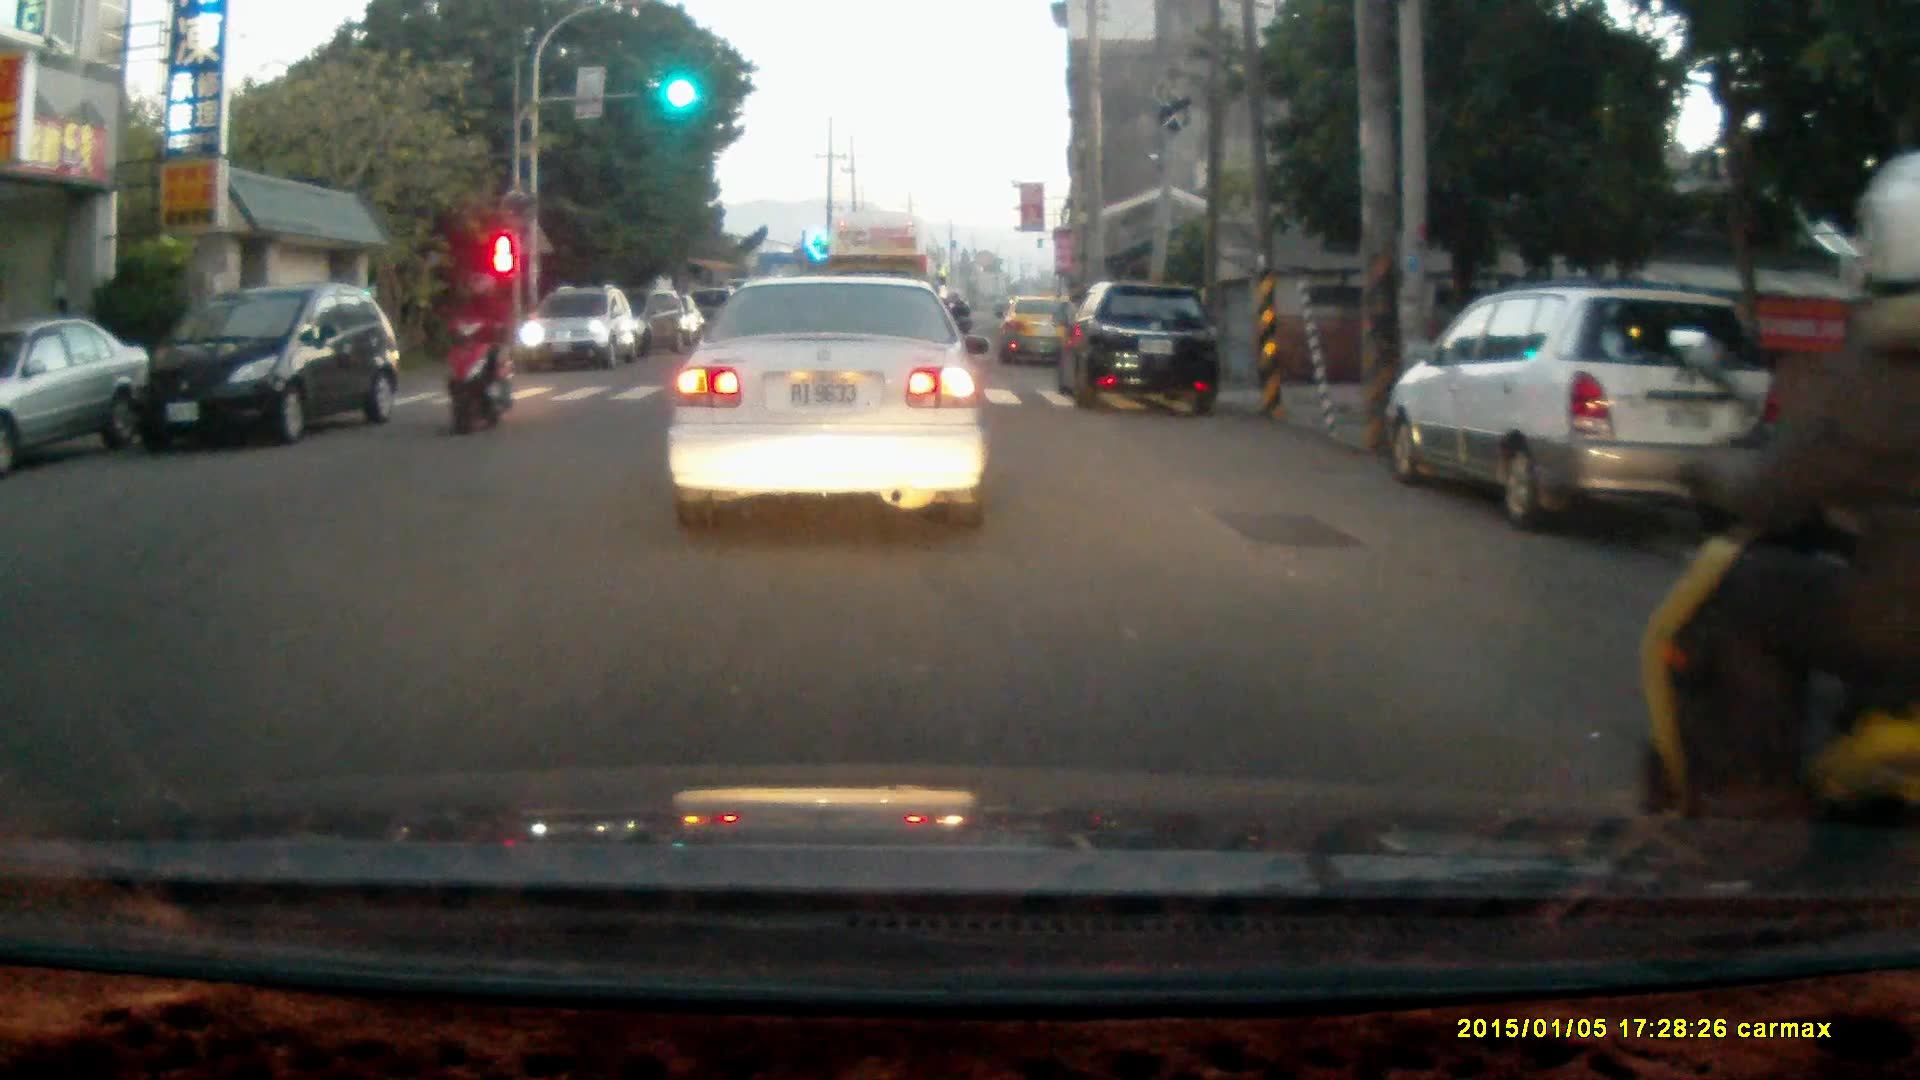rider: (1635, 245, 1920, 925), (444, 266, 514, 439)
vehicle: (1397, 284, 1776, 523), (671, 270, 993, 524), (125, 282, 401, 454), (0, 317, 146, 467), (1061, 280, 1221, 412), (823, 205, 939, 364), (521, 287, 640, 377), (997, 294, 1089, 369)
